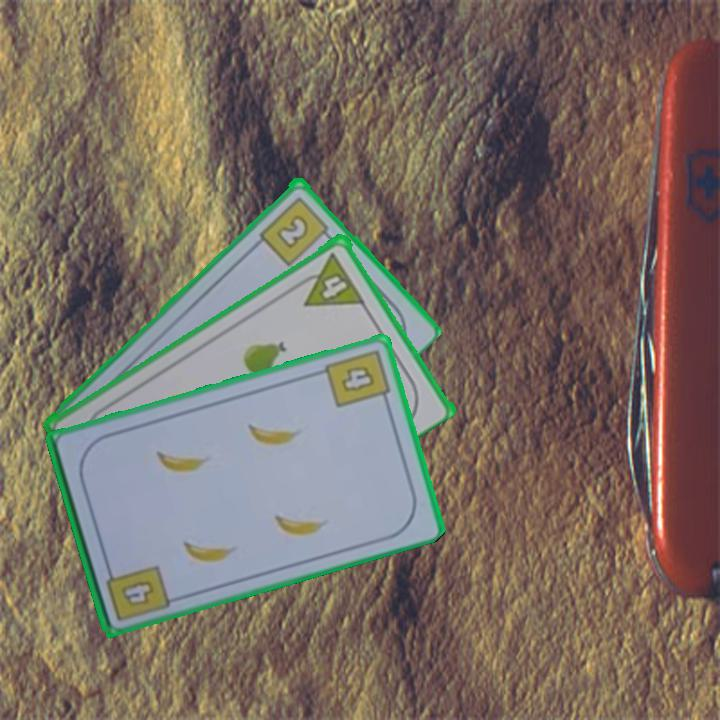2b: (256, 192, 336, 268)
4b: (321, 345, 393, 411), (102, 560, 172, 624)
4p: (291, 248, 367, 310)
